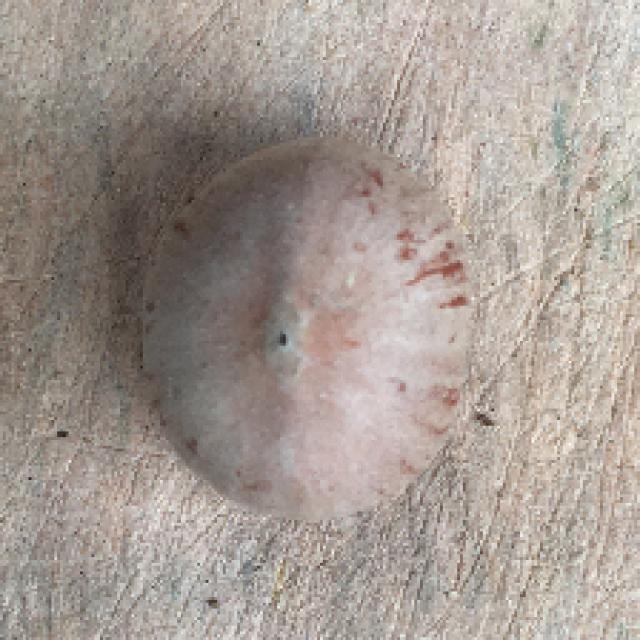QualityHazelnut: (138, 136, 476, 519)
